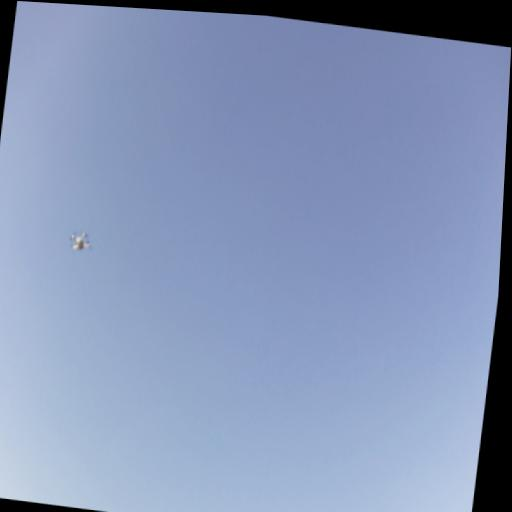drones: (66, 227, 96, 260)
